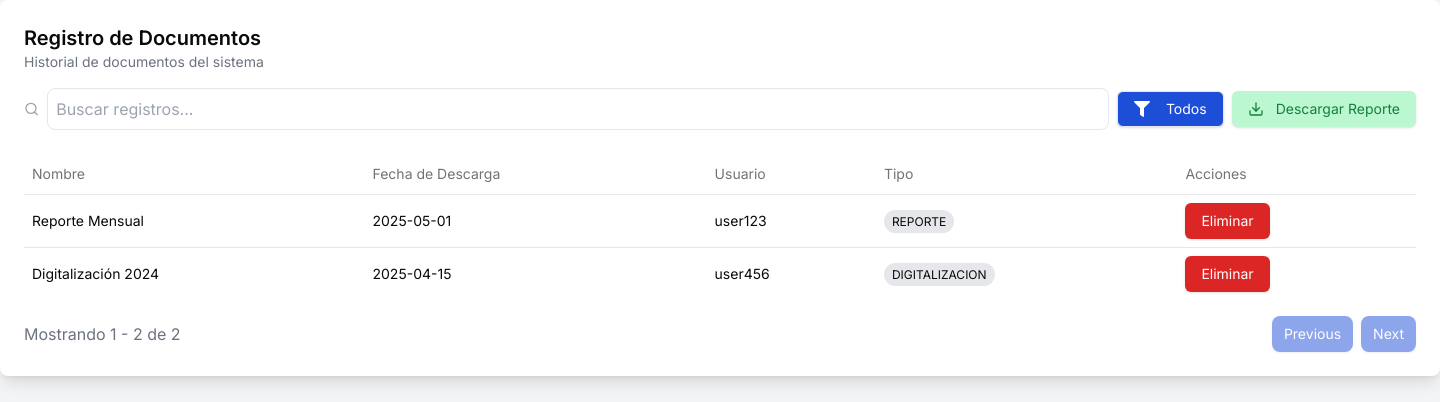
Test: DocumentsPage Component › DP-02: Búsqueda - Filtrar por título de documento
In the field with placeholder "Buscar registros...": [578, 109] box [47,88,1109,130], type "Reporte"
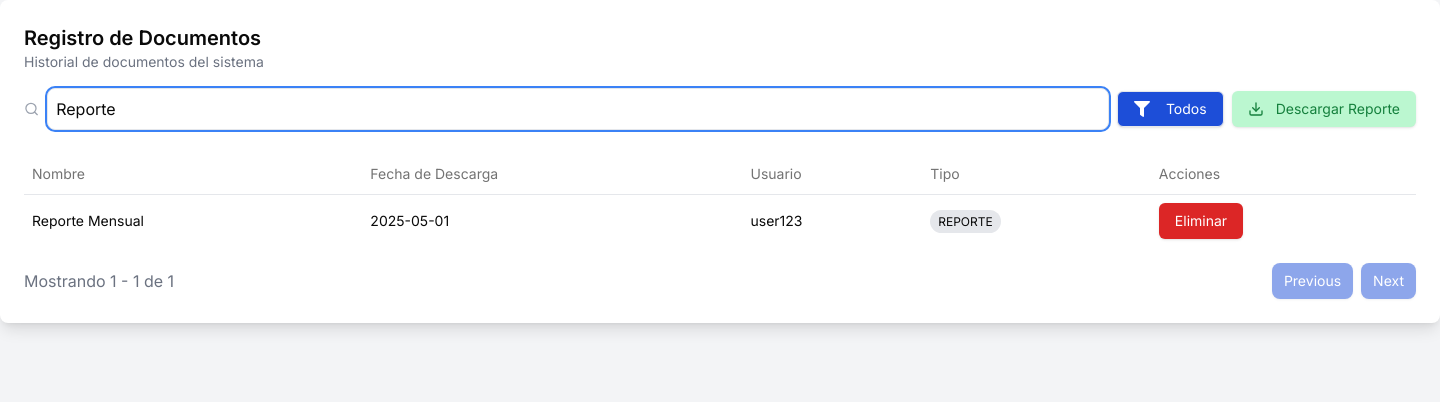
Expected: the text "Reporte Mensual" is shown, [24,194,362,246]
Expected: the number of rows is 2, [24,154,1416,194]; [24,194,1416,246]
Expected: the text "Digitalización 2024" is gone
